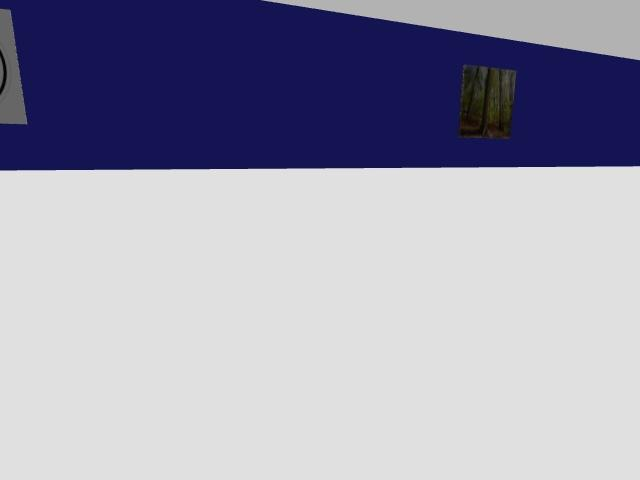tree: (460, 65, 515, 137), (481, 67, 491, 136), (466, 67, 479, 120), (508, 70, 515, 130), (498, 69, 503, 130)
